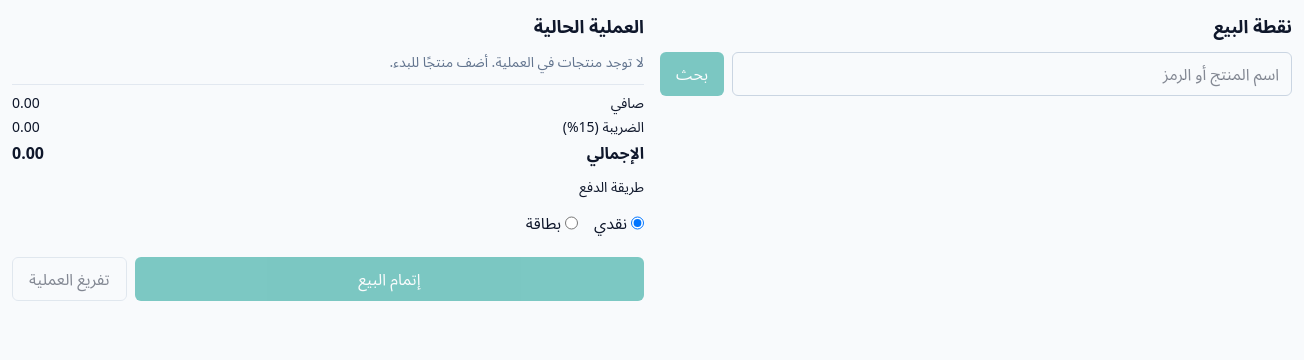
Scenario: PosPage › adds one cart line (qty 1) when tapping a product
Type "coffee" into the search field named "بحث عن منتج". click: (1012, 74)
box: [732,52,1292,96]
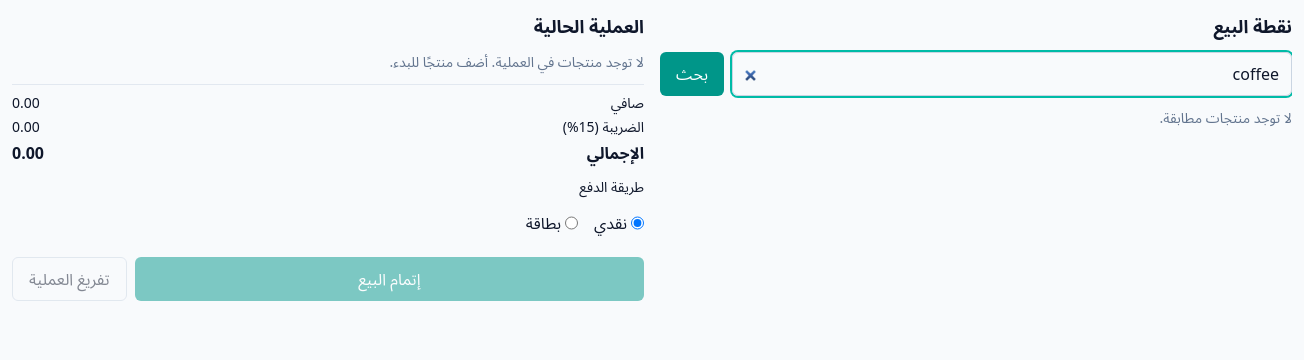
Click the button "بحث". click: (692, 74)
box: [660,52,724,96]
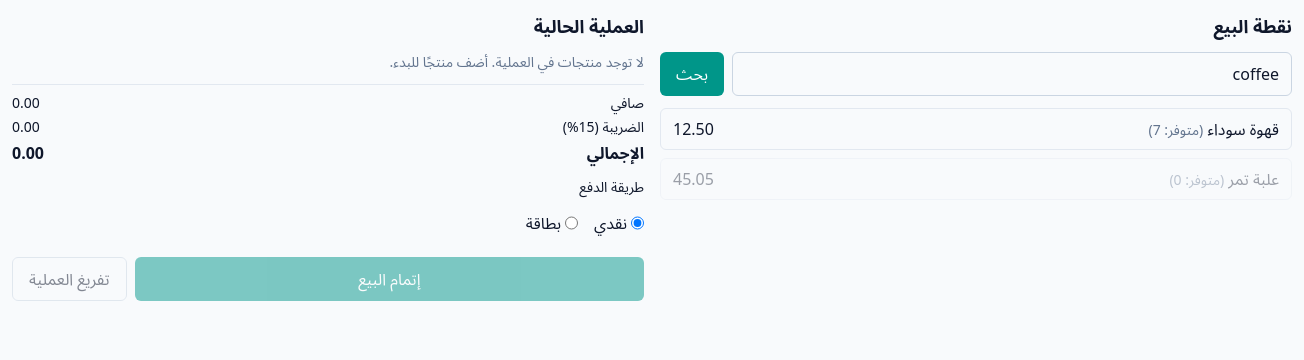
Click the text "قهوة سوداء". click: (1243, 129)
box: [1207,118,1279,140]
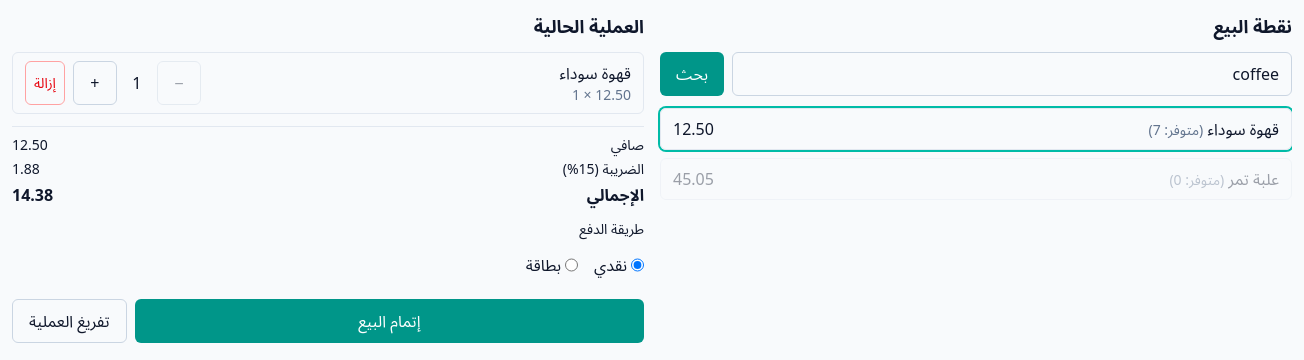
Result: the text "1" is shown at [132,72,142,94]
